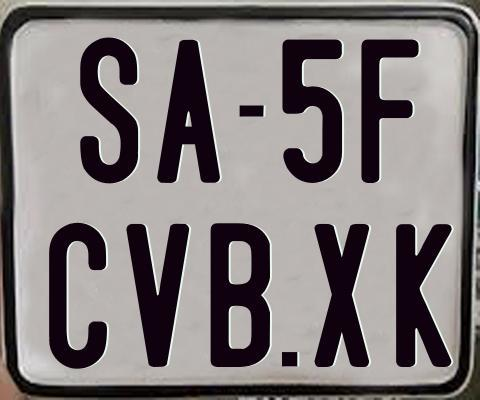5: (280, 37, 344, 181)
A: (154, 37, 217, 180)
B: (210, 221, 273, 365)
C: (49, 222, 113, 368)
F: (361, 37, 423, 182)
K: (396, 223, 458, 367)
S: (77, 36, 135, 184)
V: (123, 222, 189, 367)
X: (312, 222, 368, 371)
